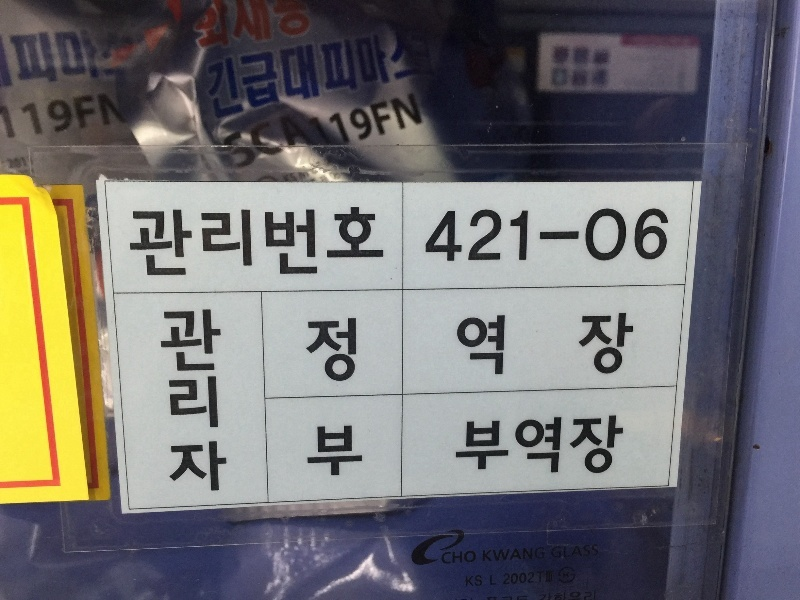text: (161, 305, 176, 495), (177, 305, 192, 495), (193, 305, 208, 495), (209, 305, 224, 495), (209, 20, 224, 126), (225, 20, 240, 126), (241, 20, 256, 126), (257, 20, 272, 126), (273, 20, 288, 126), (289, 20, 304, 126), (305, 20, 320, 126), (321, 20, 336, 126), (337, 20, 352, 126), (353, 20, 368, 126), (369, 20, 384, 126), (385, 20, 400, 126), (401, 20, 416, 126), (417, 20, 432, 126), (225, 305, 233, 495), (225, 85, 240, 176), (241, 85, 256, 176), (257, 85, 272, 176), (273, 85, 288, 176), (289, 85, 304, 176), (305, 85, 320, 176), (321, 85, 336, 176), (337, 85, 352, 176), (353, 85, 368, 176), (369, 85, 384, 176), (385, 85, 400, 176), (401, 85, 416, 176), (129, 208, 144, 279), (145, 208, 160, 279), (161, 208, 176, 279), (177, 208, 192, 279), (193, 208, 208, 279), (209, 208, 224, 279), (225, 208, 240, 279), (241, 208, 256, 279), (257, 208, 272, 279), (273, 208, 288, 279), (289, 208, 304, 279), (305, 208, 320, 279), (321, 208, 336, 279), (337, 208, 352, 279), (353, 208, 368, 279), (369, 208, 384, 279), (305, 316, 320, 384), (321, 316, 336, 384), (337, 316, 352, 384), (465, 312, 480, 377), (481, 312, 496, 377), (497, 312, 512, 377), (513, 312, 528, 377), (529, 312, 544, 377), (545, 312, 560, 377), (561, 312, 576, 377), (577, 312, 592, 377), (593, 312, 608, 377), (609, 312, 624, 377), (465, 414, 480, 475), (481, 414, 496, 475), (497, 414, 512, 475), (513, 414, 528, 475), (529, 414, 544, 475), (545, 414, 560, 475), (561, 414, 576, 475), (577, 414, 592, 475), (593, 414, 608, 475), (609, 414, 624, 475), (113, 86, 129, 143), (657, 207, 673, 263), (17, 27, 32, 84), (33, 27, 48, 84), (49, 27, 64, 84), (65, 27, 80, 84), (81, 27, 96, 84), (1, 86, 16, 143), (17, 86, 32, 143), (33, 86, 48, 143), (49, 86, 64, 143), (65, 86, 80, 143), (81, 86, 96, 143), (97, 86, 112, 143), (449, 207, 464, 263), (465, 207, 480, 263), (481, 207, 496, 263), (497, 207, 512, 263), (513, 207, 528, 263), (529, 207, 544, 263), (545, 207, 560, 263), (561, 207, 576, 263), (577, 207, 592, 263), (593, 207, 608, 263), (609, 207, 624, 263), (625, 207, 640, 263), (641, 207, 656, 263), (321, 423, 336, 477), (337, 423, 352, 477), (1, 38, 16, 89), (306, 423, 320, 477), (216, 85, 224, 176), (417, 85, 425, 176), (193, 5, 208, 53), (209, 5, 224, 53), (225, 5, 240, 53), (241, 5, 256, 53), (257, 5, 272, 53), (273, 5, 288, 53), (289, 5, 304, 53), (453, 312, 464, 377), (436, 207, 448, 263), (202, 20, 208, 126), (353, 423, 364, 477), (625, 312, 634, 377), (157, 305, 160, 495), (457, 414, 464, 475), (9, 27, 16, 84), (305, 5, 313, 53), (561, 44, 576, 67), (577, 44, 592, 67), (593, 44, 608, 67), (97, 27, 103, 84), (561, 67, 576, 87), (577, 67, 592, 87), (593, 67, 608, 87), (353, 316, 357, 384), (513, 569, 528, 586), (529, 569, 544, 586), (497, 547, 512, 563), (513, 547, 528, 563), (529, 547, 544, 563), (561, 544, 576, 559), (577, 544, 592, 559), (449, 550, 464, 565), (482, 547, 496, 563), (125, 208, 128, 279), (433, 20, 435, 126), (188, 5, 192, 53), (466, 575, 480, 588), (502, 569, 512, 586), (465, 550, 476, 565), (553, 44, 560, 67), (552, 67, 560, 87), (385, 208, 387, 279), (551, 544, 560, 559), (562, 571, 576, 580), (545, 569, 552, 586), (441, 550, 448, 565), (593, 544, 598, 559), (609, 44, 612, 67), (490, 575, 496, 586), (625, 414, 626, 475), (481, 575, 483, 588), (545, 547, 546, 563)
